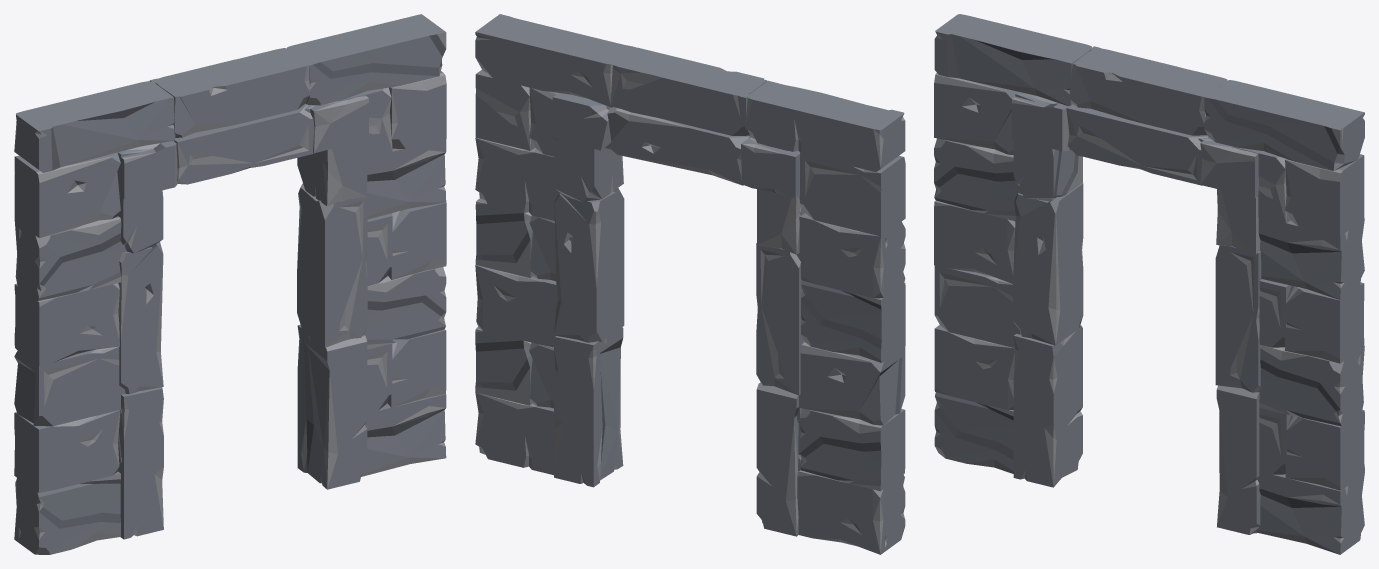
File: mesh_stone_wall_doorframe.fbx
The picture shows the model from 3 angles, left to right: view 1: azimuth 30°, elevation 25°; view 2: azimuth 150°, elevation 25°; view 3: azimuth 330°, elevation 25°; orthographic projection.
Parts seen in each view (by area): view 1: mesh_stone_wall_doorframe; view 2: mesh_stone_wall_doorframe; view 3: mesh_stone_wall_doorframe.
Boxes of the visible parts, x1,y1,x2,y2 form: mesh_stone_wall_doorframe: [14, 14, 446, 554]; mesh_stone_wall_doorframe: [475, 14, 905, 554]; mesh_stone_wall_doorframe: [934, 14, 1364, 554].
Bounding box in the file's own units: 2 × 2 × 0.2796.
